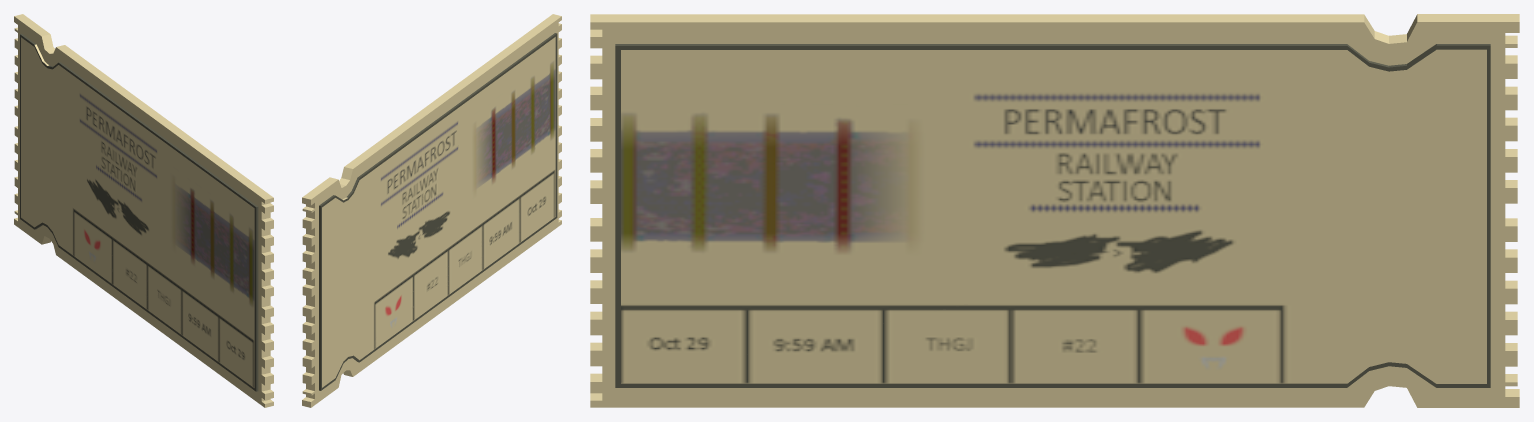
Rendered from Ticket.fbx.
3 renders of one model, left to right at view 1: azimuth 30°, elevation 25°; view 2: azimuth 150°, elevation 25°; view 3: azimuth 270°, elevation 25°, orthographic. The views are drawn at different scales.
Visible parts, largest first — view 1: Ticket; view 2: Ticket; view 3: Ticket.
Boxes of the visible parts, box(x1,y1,x2,y2) form: Ticket: box(14, 14, 273, 407); Ticket: box(302, 14, 561, 407); Ticket: box(590, 14, 1519, 407).
Bounding box in the file's own units: 15.17 × 231 × 505.
